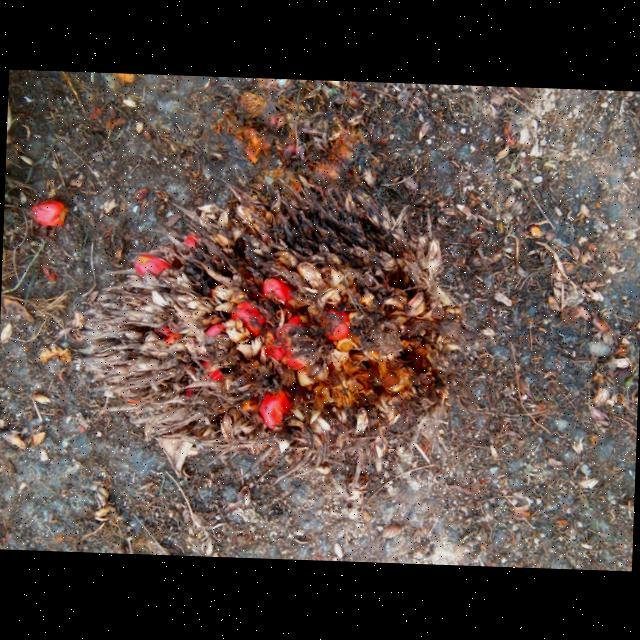Overripe: (82, 177, 464, 475)
